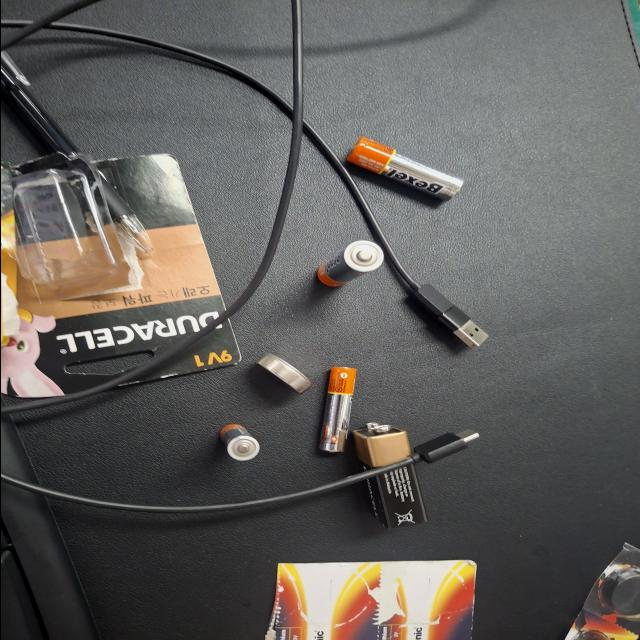9V: (352, 160, 493, 218)
AA: (0, 132, 61, 223), (105, 190, 173, 244)
AAA: (278, 213, 392, 243), (348, 286, 401, 318)
COIN: (264, 246, 312, 288)
